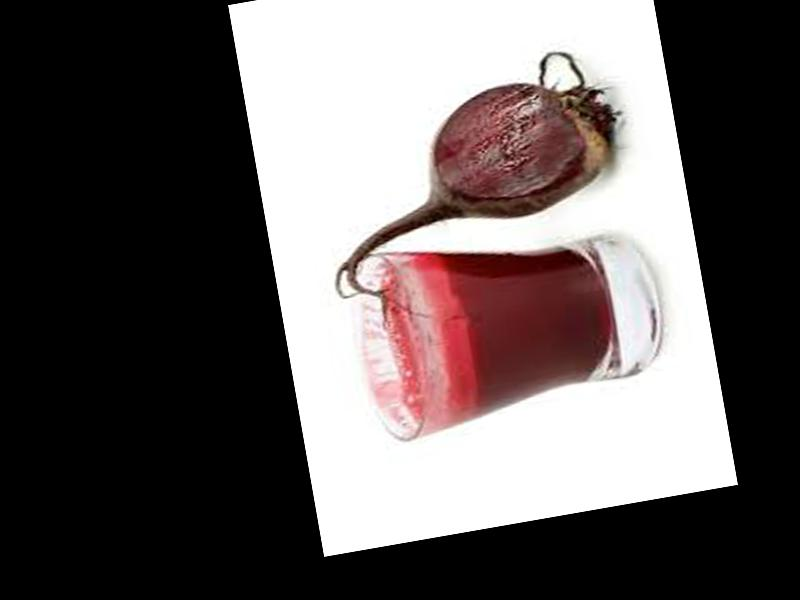Beet: (302, 44, 645, 327)
